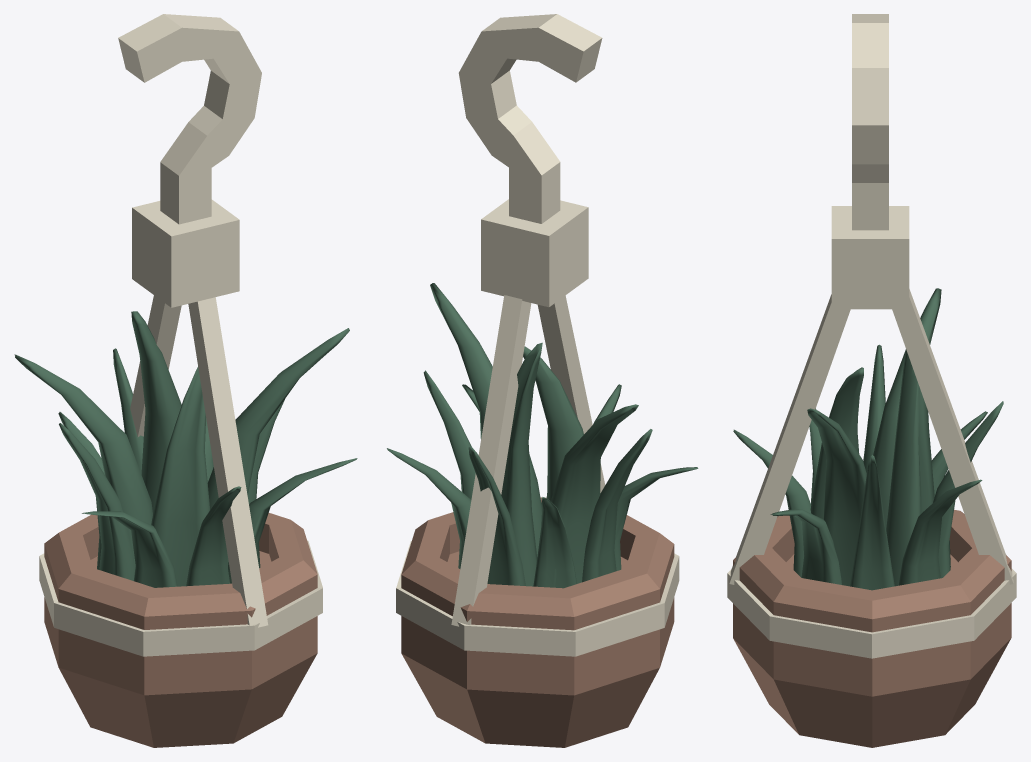
The model's file is pottedPlant_hangingGreen.fbx.
3 views of the same model, side by side, from view 1: azimuth 30°, elevation 25°; view 2: azimuth 150°, elevation 25°; view 3: azimuth 270°, elevation 25° (orthographic).
Visible parts, largest first — view 1: Cube.031; view 2: Cube.031; view 3: Cube.031.
Part boxes in pixels (left/top/right/bottom): Cube.031: left=14, top=14, right=357, bottom=747; Cube.031: left=387, top=14, right=698, bottom=747; Cube.031: left=727, top=14, right=1016, bottom=747.
Bounding box in the file's own units: 198 × 479 × 186.
